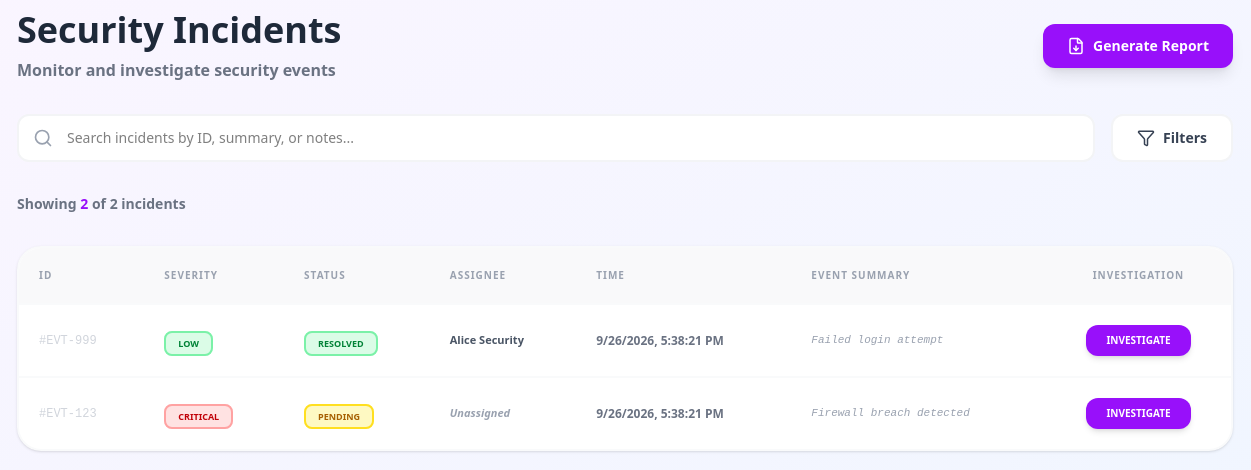
Scenario: Incidents Dashboard - Full Component Test Suite › [UI-03] Filters the table correctly when a search query is entered
Type "EVT-999" into the field with placeholder "Search incidents by ID, summary, or notes..." at x=556, y=138, box [17,114,1095,162]
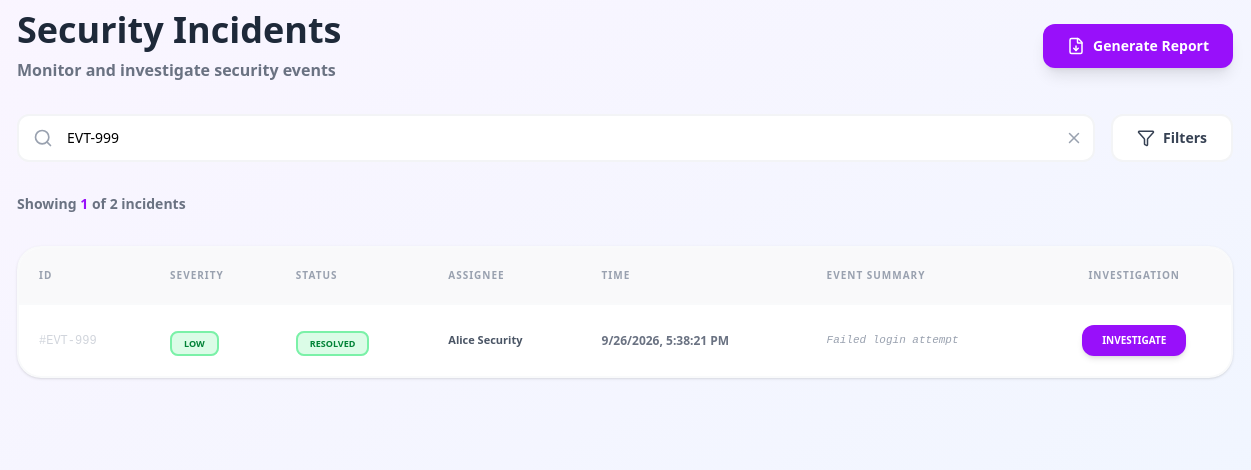
Check: the text "#EVT-999" is shown, box [19,304,150,376]
Check: the text "#EVT-123" is gone
